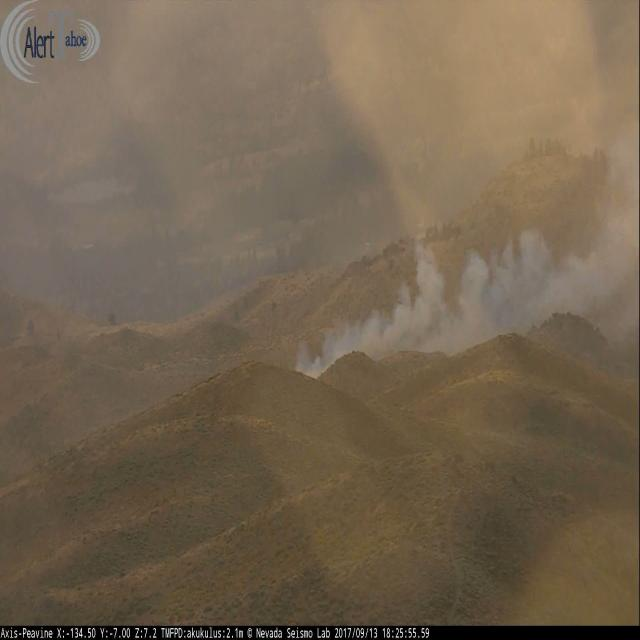smoke: (291, 135, 640, 382)
